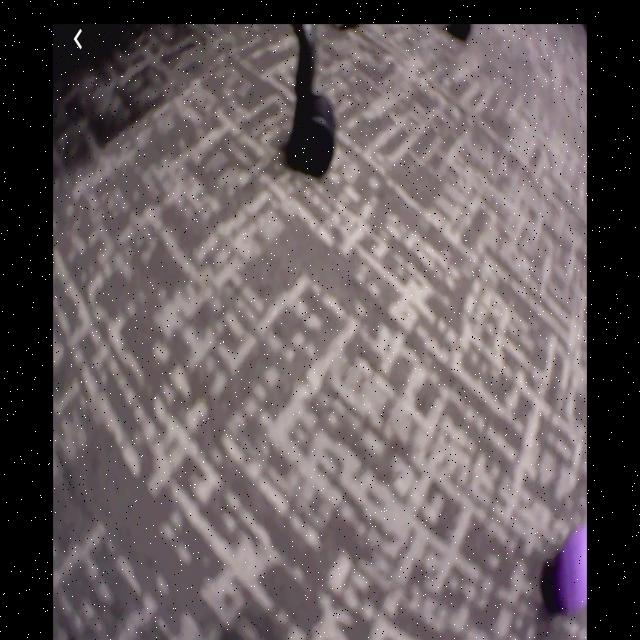ball: (541, 524, 588, 619)
